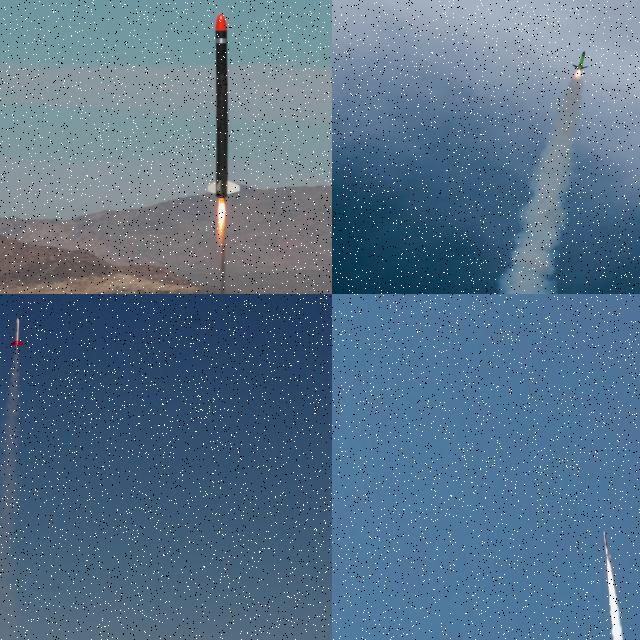Rocket: (207, 13, 240, 200), (11, 317, 25, 349), (572, 51, 589, 71), (603, 528, 611, 561)
